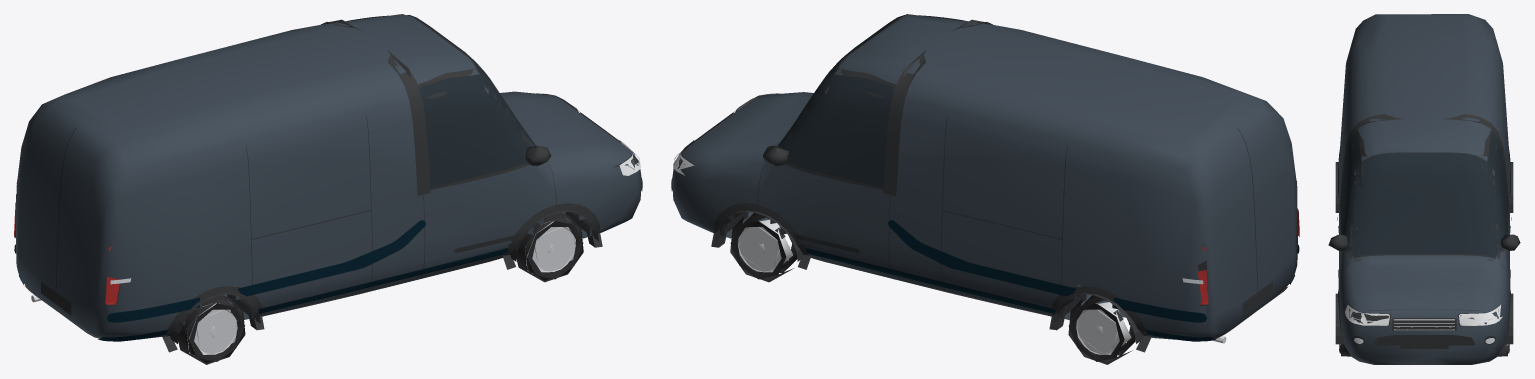
File: livr_bleu_far.glb
3 renders of one model, left to right at view 1: azimuth 30°, elevation 25°; view 2: azimuth 150°, elevation 25°; view 3: azimuth 270°, elevation 25°, orthographic. The views are drawn at different scales.
Parts seen in each view (by area): view 1: Body, Glass-1, WheelRR, WheelFR, LbWave-1, Bpillar-1, LbSky-1, ArchTrim-1, ArchTrim-1.001, WinFrame-1, ArchLiner.003, ArchLiner.001; view 2: Body, Glass1, WheelRL, WheelFL, LbWave1, Bpillar1, LbSky1, ArchTrim1, ArchTrim1.001, WinFrame1, ArchLiner.002, ArchLiner; view 3: Body, Windshield, Glass1, Glass-1, Intake, HeadReflector, Grille, WsFrame, HeadBezel, Bpillar-1, Bpillar1, ArchLiner (+8 smaller).
Boxes of the visible parts, bbox=[...] form: Body: bbox=[16, 14, 641, 339]; Glass-1: bbox=[419, 74, 535, 188]; WheelRR: bbox=[178, 295, 245, 364]; WheelFR: bbox=[516, 212, 583, 282]; LbWave-1: bbox=[107, 220, 425, 322]; Bpillar-1: bbox=[387, 49, 430, 195]; LbSky-1: bbox=[98, 248, 507, 341]; ArchTrim-1: bbox=[502, 203, 602, 269]; ArchTrim-1.001: bbox=[162, 286, 264, 352]; WinFrame-1: bbox=[418, 68, 532, 189]; ArchLiner.003: bbox=[170, 293, 260, 343]; ArchLiner.001: bbox=[509, 210, 598, 261]; Body: bbox=[672, 14, 1297, 339]; Glass1: bbox=[778, 74, 894, 187]; WheelRL: bbox=[1068, 295, 1135, 364]; WheelFL: bbox=[730, 212, 797, 282]; LbWave1: bbox=[888, 220, 1206, 322]; Bpillar1: bbox=[883, 49, 926, 195]; LbSky1: bbox=[805, 248, 1215, 341]; ArchTrim1: bbox=[711, 203, 811, 269]; ArchTrim1.001: bbox=[1049, 286, 1151, 352]; WinFrame1: bbox=[784, 68, 895, 189]; ArchLiner.002: bbox=[1053, 293, 1143, 343]; ArchLiner: bbox=[715, 210, 804, 261]; Body: bbox=[1338, 14, 1510, 364]; Windshield: bbox=[1351, 153, 1497, 257]; Glass1: bbox=[1476, 132, 1508, 250]; Glass-1: bbox=[1340, 132, 1363, 250]; Intake: bbox=[1374, 335, 1474, 345]; HeadReflector: bbox=[1345, 305, 1502, 325]; Grille: bbox=[1392, 318, 1456, 330]; WsFrame: bbox=[1348, 152, 1500, 259]; HeadBezel: bbox=[1346, 301, 1499, 325]; Bpillar-1: bbox=[1339, 114, 1405, 209]; Bpillar1: bbox=[1443, 114, 1509, 209]; ArchLiner: bbox=[1505, 293, 1513, 344].
Size of the model in its own units: 5.62 by 2.29 by 2.15.
